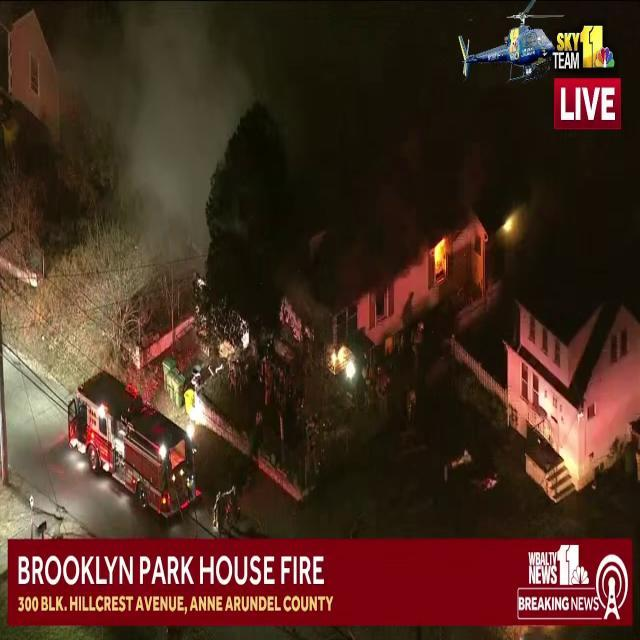Fire: (328, 338, 358, 386)
Smoke: (54, 5, 266, 288)
